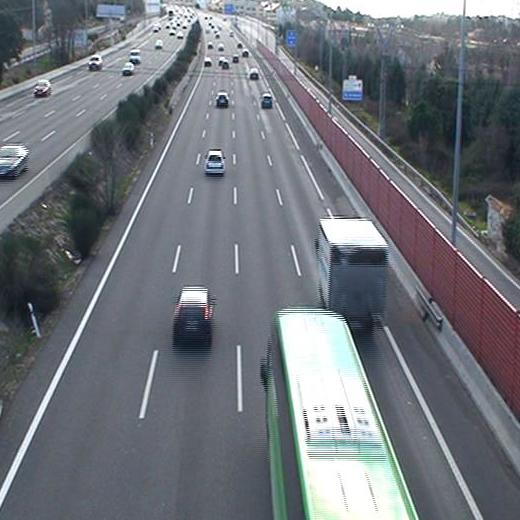bus: (260, 308, 421, 520)
car: (173, 287, 215, 345), (203, 148, 226, 175), (215, 92, 229, 108), (262, 93, 272, 108), (248, 68, 259, 79), (221, 61, 229, 69), (205, 57, 212, 66)
small-truck: (314, 219, 389, 314)
